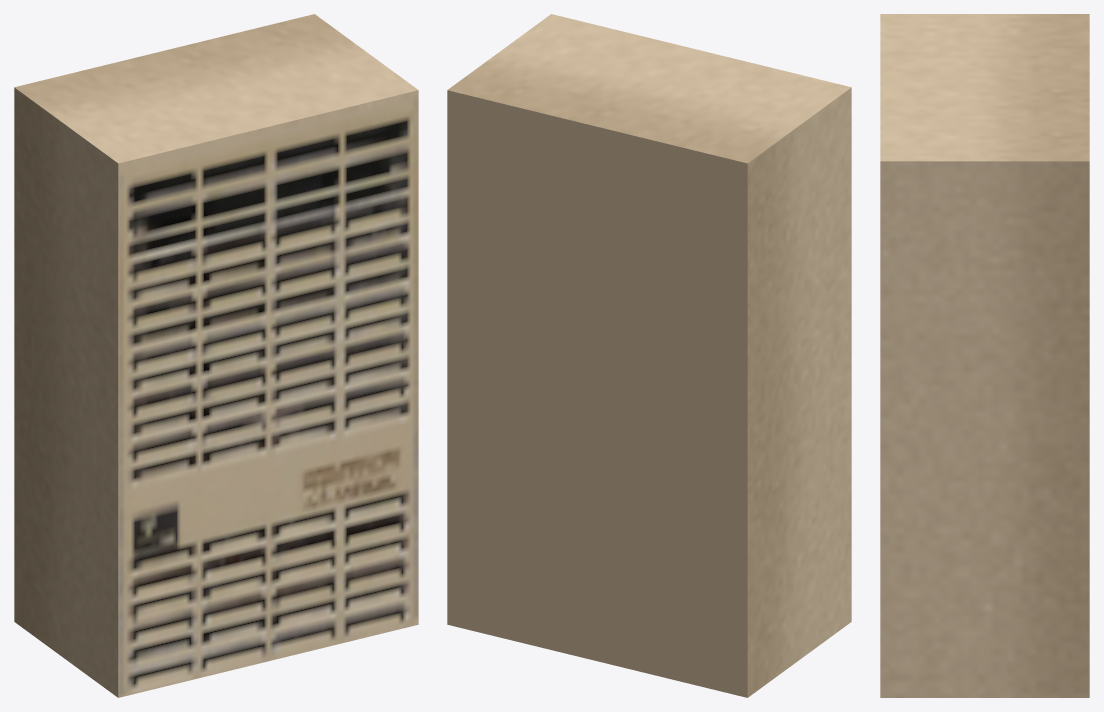
Rendered from Classic64_PanelHeater_Model.fbx.
3 views of the same model, side by side, from view 1: azimuth 30°, elevation 25°; view 2: azimuth 150°, elevation 25°; view 3: azimuth 270°, elevation 25° (orthographic).
Visible parts, largest first — view 1: Classic64_PanelHeater_Part000; view 2: Classic64_PanelHeater_Part000; view 3: Classic64_PanelHeater_Part000.
Part boxes in pixels (x1,y1,x2,y2): Classic64_PanelHeater_Part000: (14, 14, 418, 697); Classic64_PanelHeater_Part000: (447, 14, 851, 697); Classic64_PanelHeater_Part000: (880, 14, 1089, 697).
Size of the model in its own units: 0.3048 by 0.5182 by 0.1829.
1 material, 1 textured.
